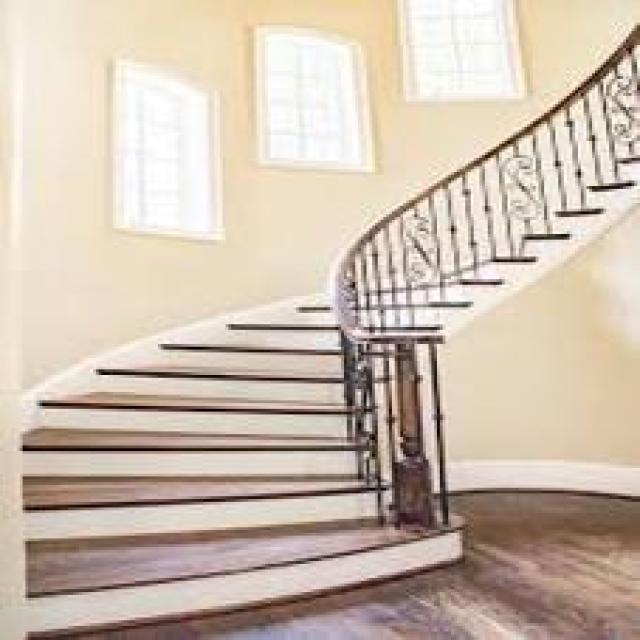upstair: (18, 365, 463, 616)
